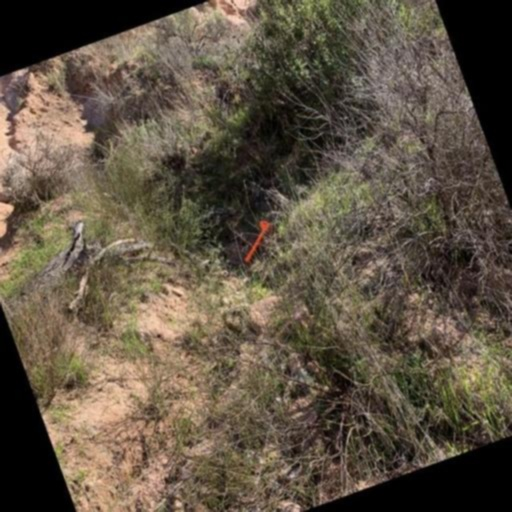mallet: (228, 214, 286, 266)
